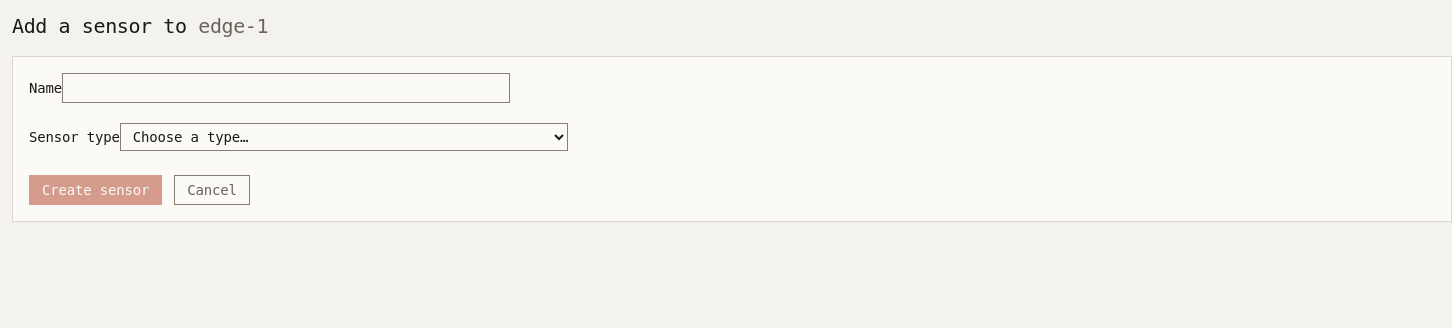
it: the add-sensor form on a probe whose flow collector is off › says it could not ask when the core cannot be reached at all (U-29)
The image size is (1452, 328).
Select "flow.netflow — Flow" in the dropdown labelled "Sensor type": (344, 137) [120, 123, 568, 151]
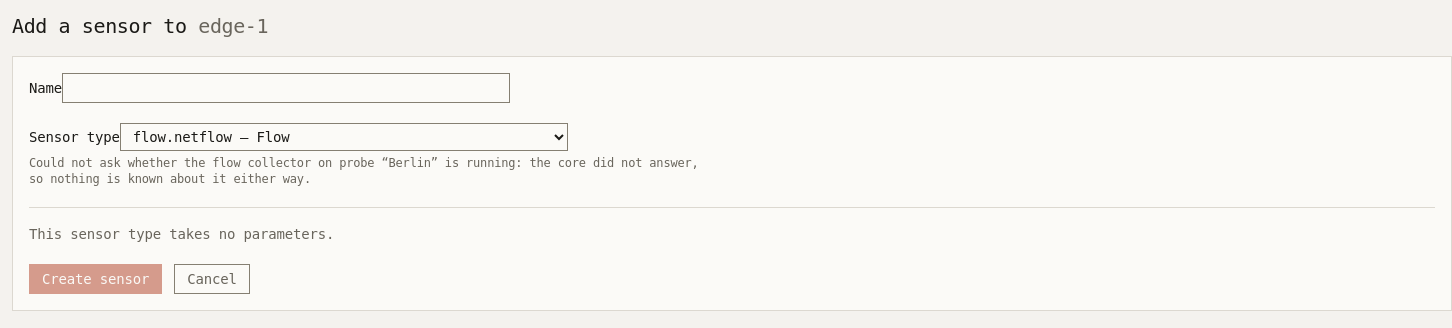
Expected: the message with id "sensor-type-listener" shows "Could not ask whether the flow collector", [29, 156, 699, 186]
